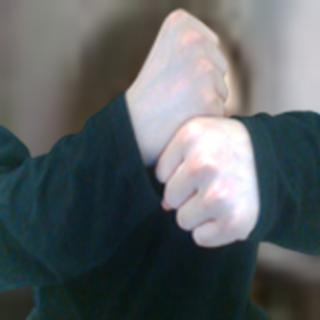CAREFUL: (128, 5, 261, 251)
